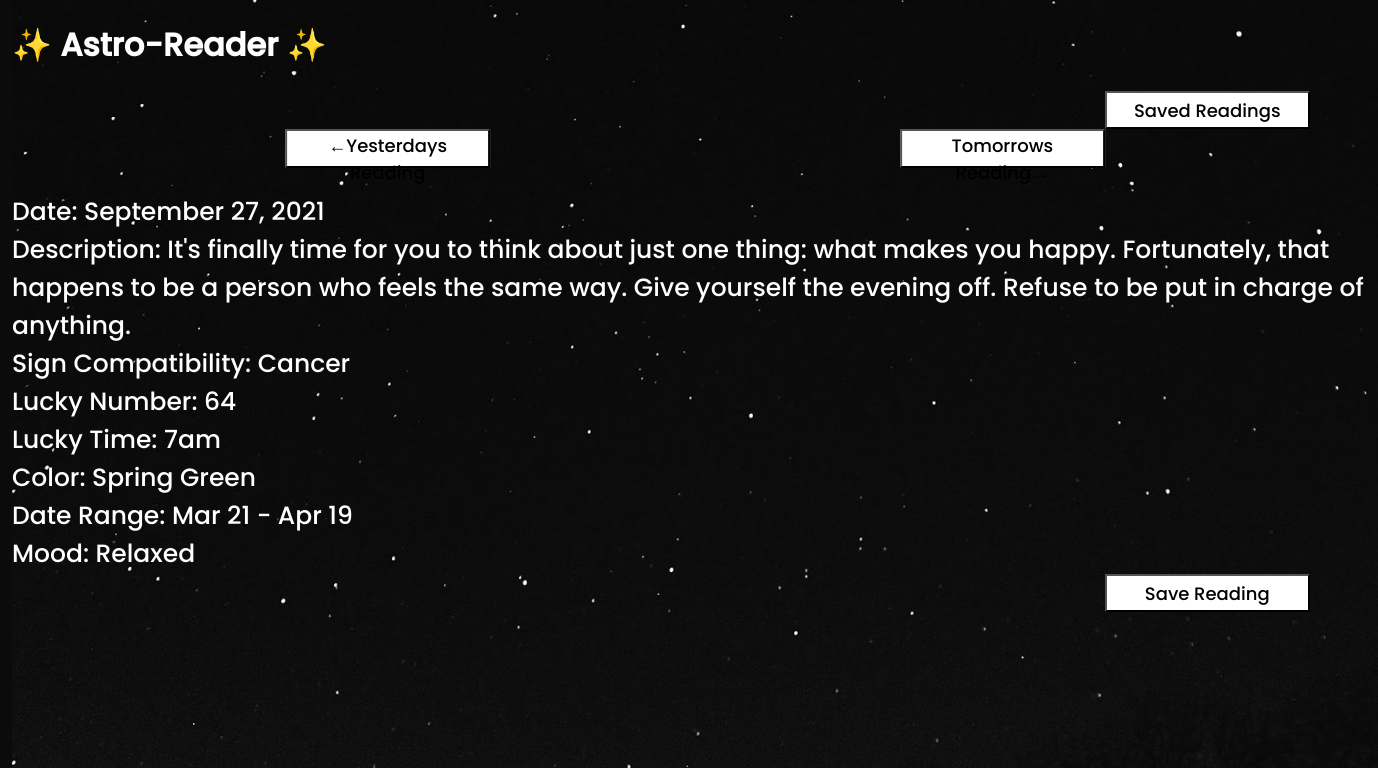
Scenario: Users Zodiac Horoscope Reading Pages › Show todays reading › Should be able to click tomorrows reading button and display tomorrows reading for the selected Zodiac
Click the button with class "tomorrow-btn" at point(1003, 148), box [900,129,1105,167]
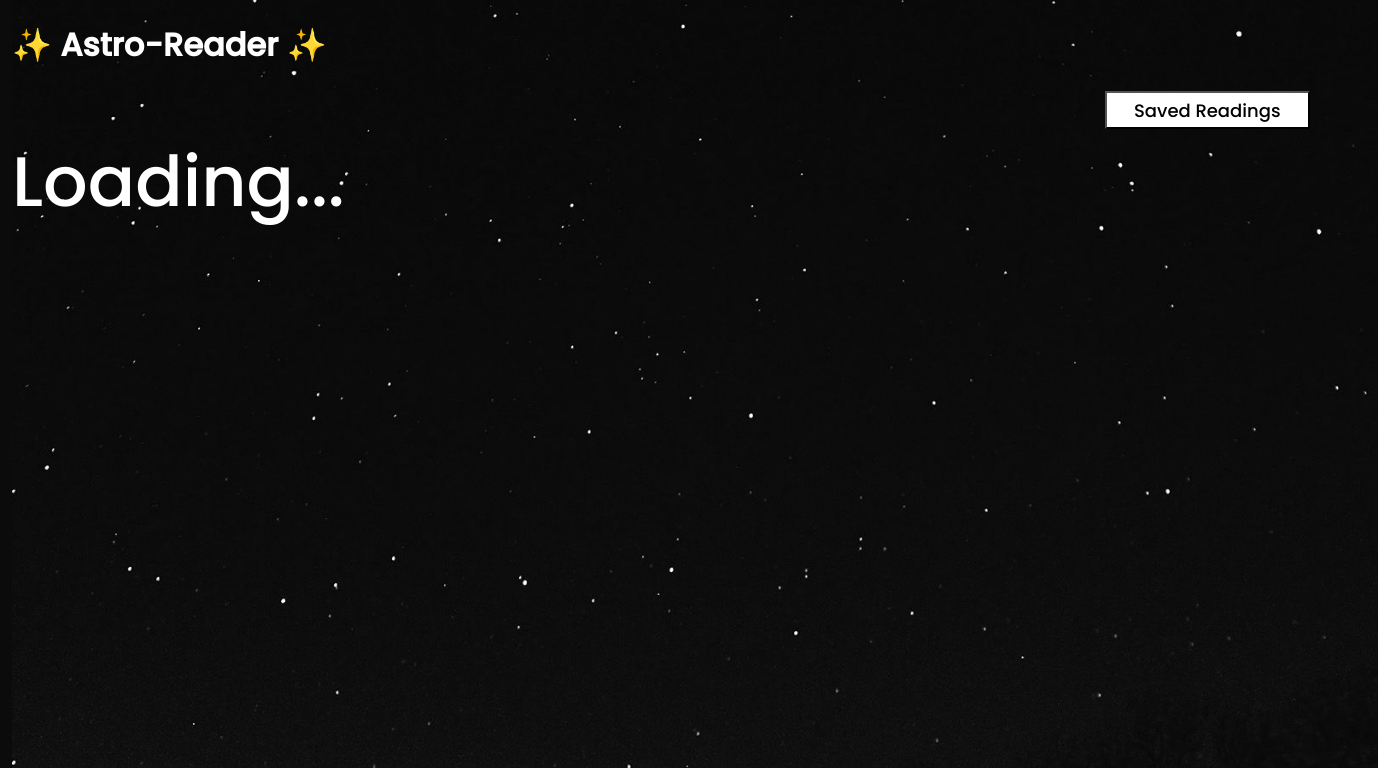
Open "http://localhost:3000/astro-reader/reading/tomorrow/aries"
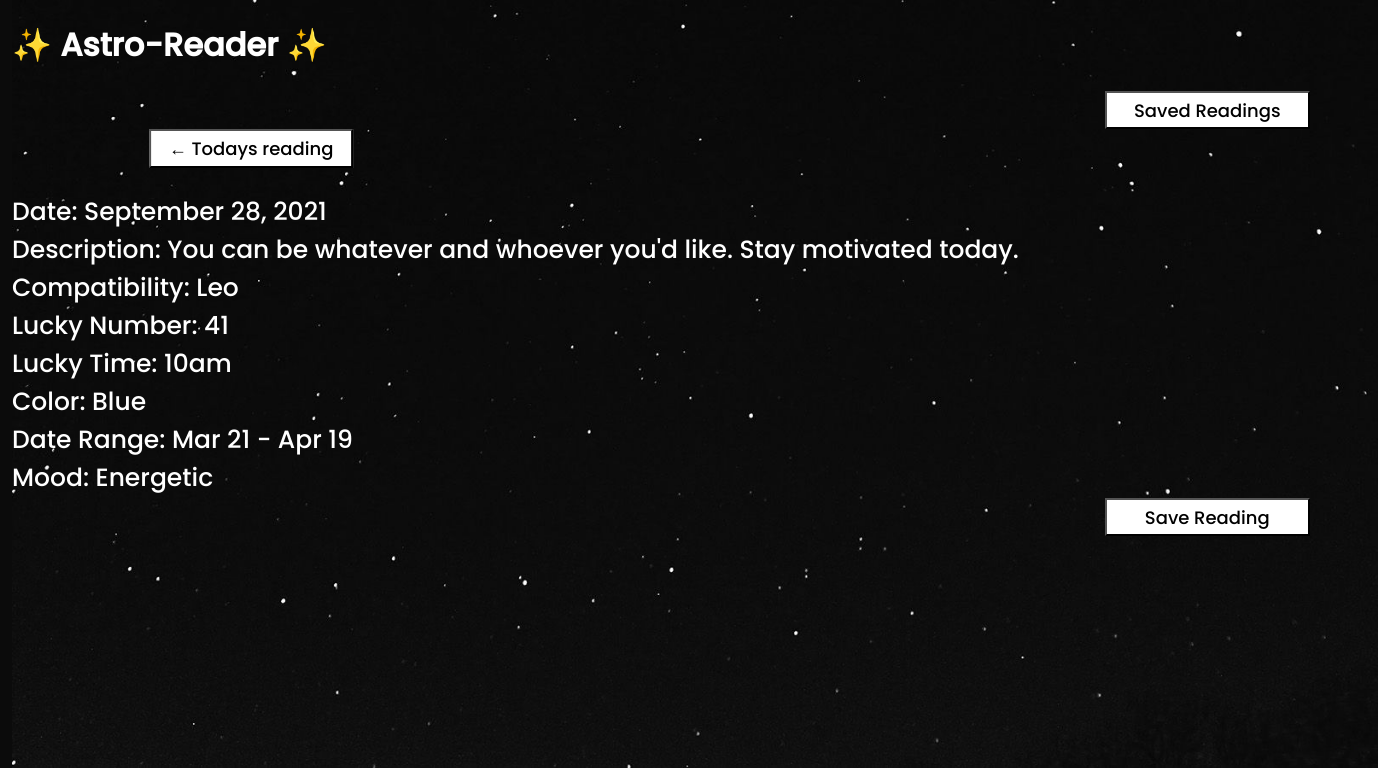
Result: the element with class "reading-card" shows "Date: September 28, 2021" at [12,154,1377,536]
Result: the element with class "reading-card" shows "Description: You can be whatever and whoever you'd like. Stay motivated today." at [12,154,1377,536]
